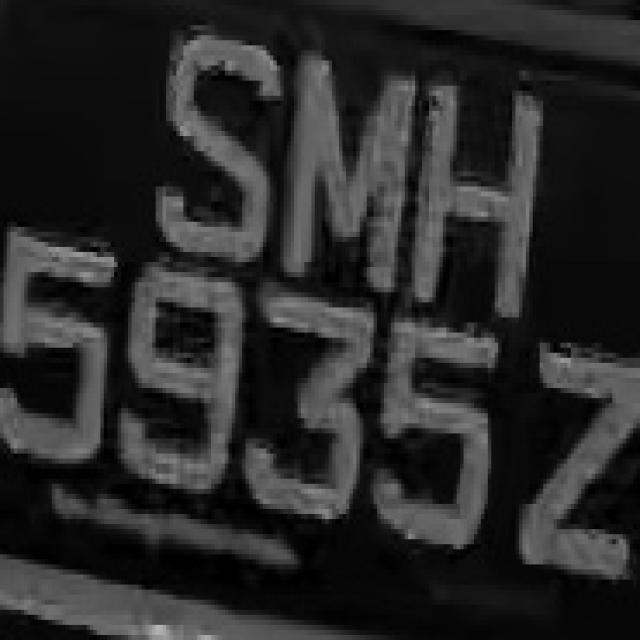3: (253, 257, 384, 539)
5: (377, 292, 502, 580), (7, 181, 121, 479)
9: (132, 232, 249, 509)
H: (419, 45, 557, 322)
M: (284, 30, 408, 318)
S: (142, 25, 284, 272)
Z: (3, 2, 3, 5)
